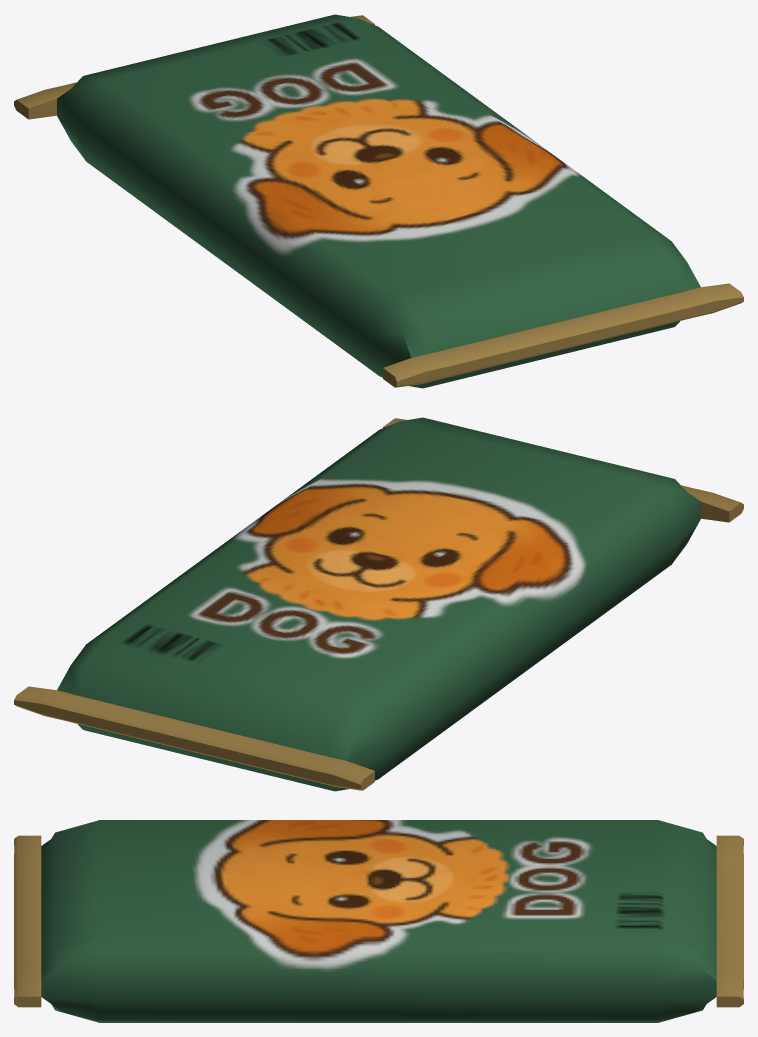
Rendered from feed_sack2.fbx.
3 views of the same model, one above another, from view 1: azimuth 30°, elevation 25°; view 2: azimuth 150°, elevation 25°; view 3: azimuth 270°, elevation 25° (orthographic). The views are drawn at different scales.
Visible parts, largest first — view 1: feed_sack2; view 2: feed_sack2; view 3: feed_sack2.
Boxes of the visible parts, x1=… form: feed_sack2: x1=14, y1=14, x2=743, y2=388; feed_sack2: x1=14, y1=417, x2=743, y2=791; feed_sack2: x1=14, y1=820, x2=743, y2=1022.
Bounding box in the file's own units: 96.34 × 23.88 × 184.
1 material, 1 textured.
